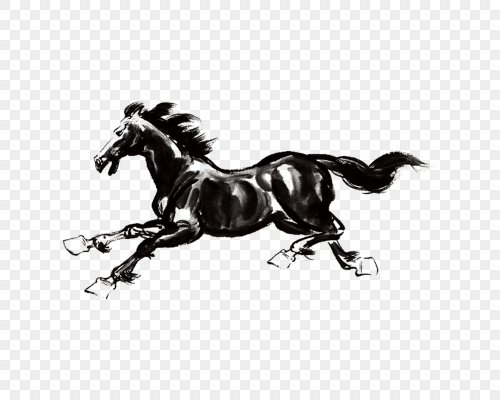background: (71, 103, 398, 294)
